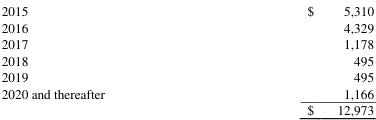table: (0, 1, 373, 117)
table column: (0, 1, 205, 117), (205, 1, 373, 117)
table row: (0, 1, 373, 18), (0, 34, 373, 51), (0, 67, 373, 84), (0, 100, 373, 117), (0, 18, 373, 34), (0, 51, 373, 67), (0, 84, 373, 100)
